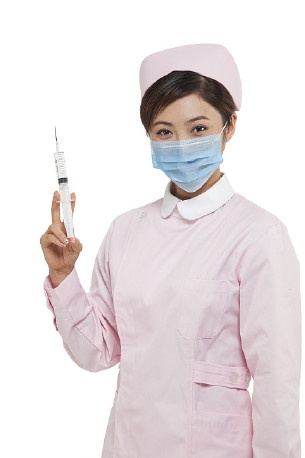Mask: (147, 113, 226, 193)
